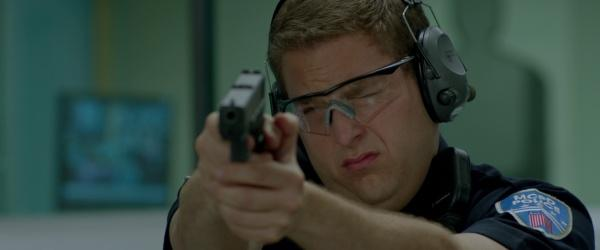Gun: (219, 70, 269, 164)
